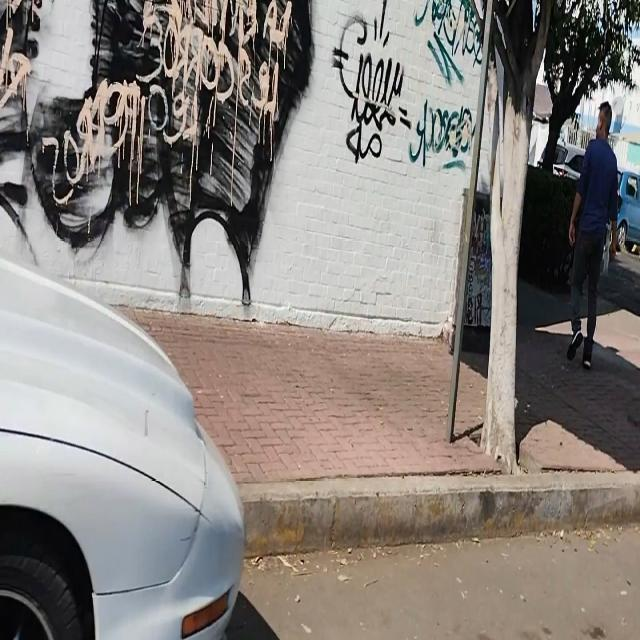adult: (568, 106, 618, 371)
